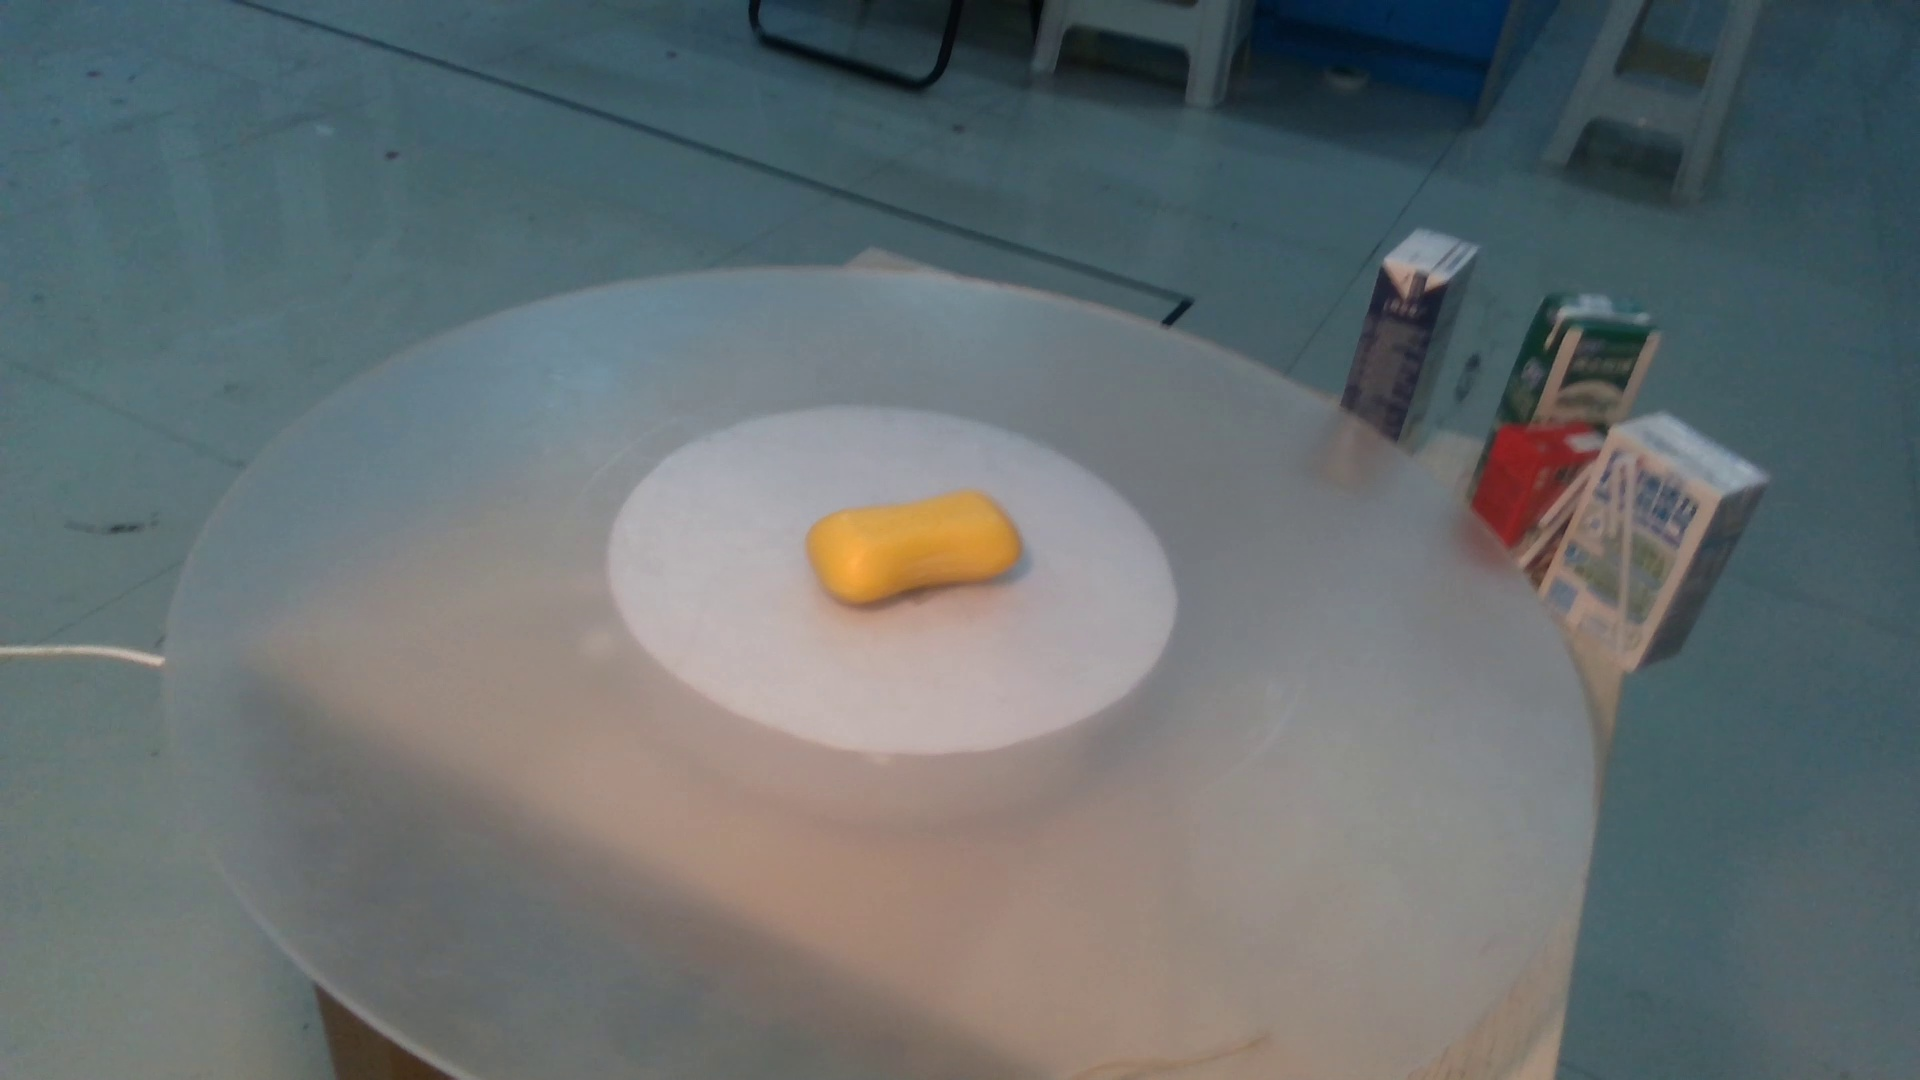CA003_1: (793, 448, 1048, 607)
